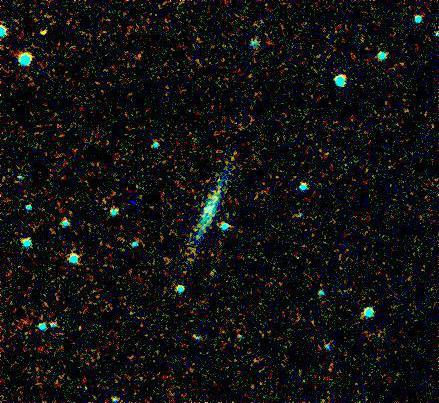star: (31, 18, 61, 48)
